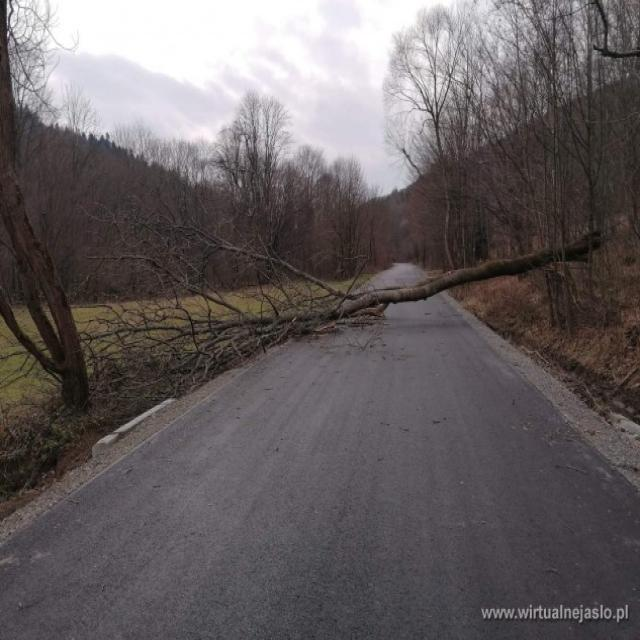fallen_tree: (350, 224, 603, 318)
